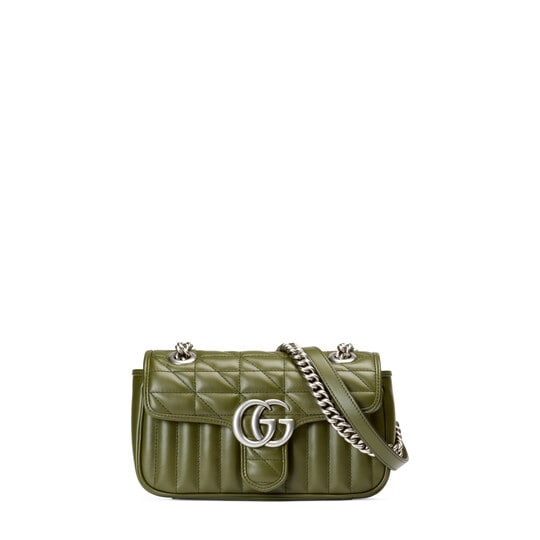Gucci: (132, 342, 406, 501), (230, 389, 304, 454)
